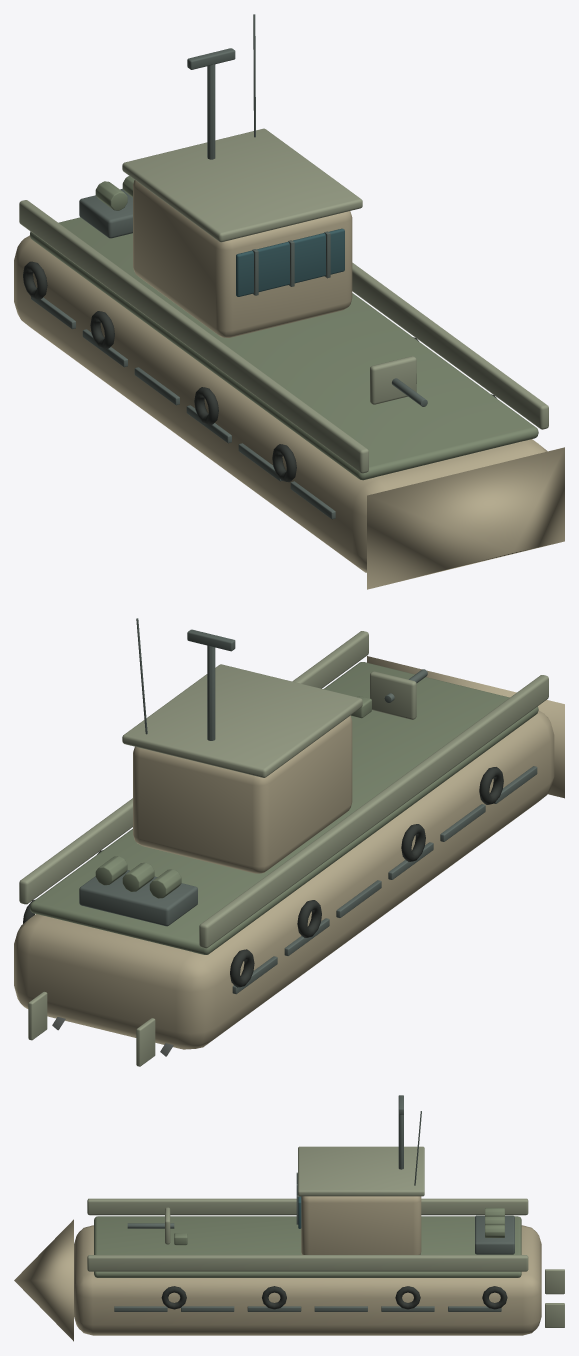
File: patrol_boat.glb
The picture shows the model from 3 angles, top to bottom: view 1: azimuth 30°, elevation 25°; view 2: azimuth 150°, elevation 25°; view 3: azimuth 270°, elevation 25°; orthographic projection. The views are drawn at different scales.
Parts seen in each view (by area): view 1: PatrolBoat_Sand_armor, PatrolBoat_Armor_edge, PatrolBoat_Field_olive, PatrolBoat_Gun_steel, Cabin glass, PatrolBoat_Rubber, Gun shield; view 2: PatrolBoat_Sand_armor, PatrolBoat_Armor_edge, PatrolBoat_Field_olive, PatrolBoat_Gun_steel, PatrolBoat_Rubber, Gun shield, Radar bar; view 3: PatrolBoat_Sand_armor, PatrolBoat_Armor_edge, PatrolBoat_Field_olive, PatrolBoat_Gun_steel, PatrolBoat_Rubber.
Boxes of the visible parts, left/top/right/bottom form: PatrolBoat_Sand_armor: left=14, top=180, right=564, bottom=589; PatrolBoat_Armor_edge: left=19, top=128, right=548, bottom=473; PatrolBoat_Field_olive: left=30, top=176, right=538, bottom=480; PatrolBoat_Gun_steel: left=31, top=14, right=335, bottom=519; Cabin glass: left=236, top=228, right=344, bottom=296; PatrolBoat_Rubber: left=23, top=261, right=496, bottom=482; Gun shield: left=370, top=356, right=416, bottom=404; PatrolBoat_Sand_armor: left=14, top=656, right=564, bottom=1049; PatrolBoat_Armor_edge: left=19, top=631, right=548, bottom=1066; PatrolBoat_Field_olive: left=30, top=662, right=538, bottom=954; PatrolBoat_Gun_steel: left=79, top=618, right=537, bottom=994; PatrolBoat_Rubber: left=23, top=767, right=503, bottom=987; Gun shield: left=370, top=671, right=416, bottom=719; Radar bar: left=187, top=629, right=235, bottom=651; PatrolBoat_Sand_armor: left=14, top=1196, right=541, bottom=1341; PatrolBoat_Armor_edge: left=87, top=1146, right=564, bottom=1327; PatrolBoat_Field_olive: left=94, top=1208, right=521, bottom=1277; PatrolBoat_Gun_steel: left=114, top=1111, right=514, bottom=1311; PatrolBoat_Rubber: left=161, top=1286, right=507, bottom=1309.
Size of the model in its own units: 2.4 by 3.66 by 8.25.
